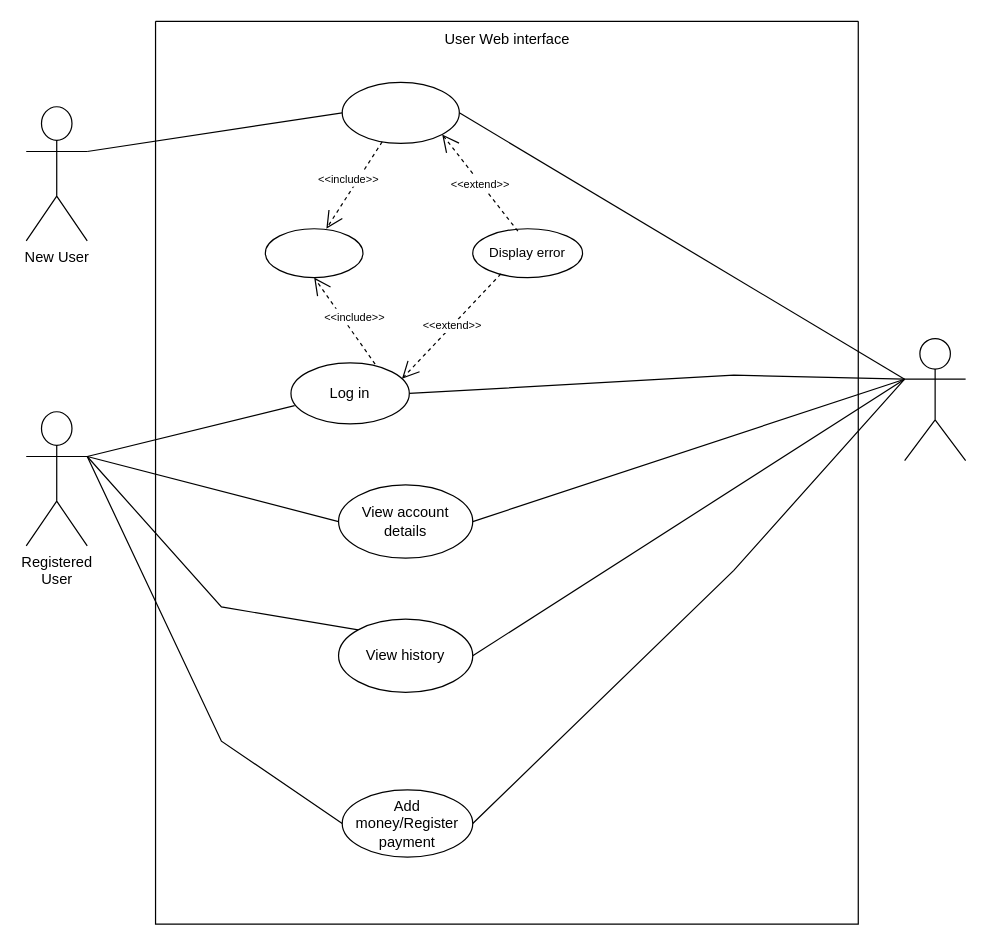
This 987x946 diagram has some shape labels left out. Each missing label, with the centre of its shape:
API: the point at 934,399
Register: the point at 400,112
Verify: the point at 313,253
